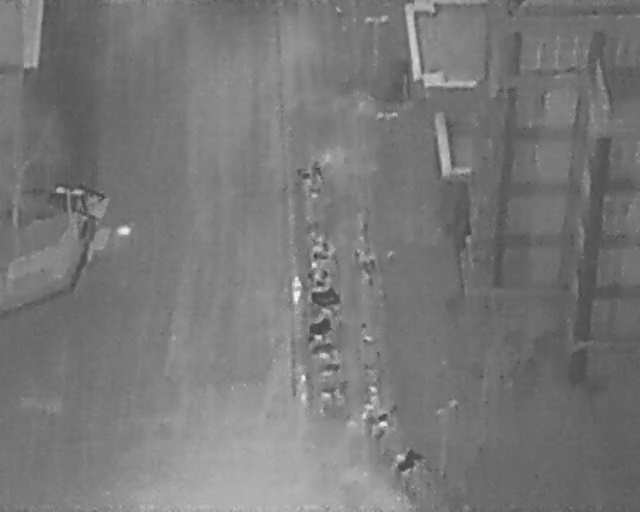Bicycle: (390, 442, 428, 478), (293, 159, 328, 190), (367, 410, 395, 438), (305, 314, 336, 338), (309, 288, 342, 309), (351, 248, 379, 269), (314, 361, 343, 379), (316, 385, 346, 402), (309, 342, 339, 358), (305, 266, 330, 283), (310, 248, 334, 265), (309, 237, 334, 252), (358, 402, 374, 420), (366, 385, 379, 402)
Person: (288, 277, 304, 308), (296, 374, 310, 404)
